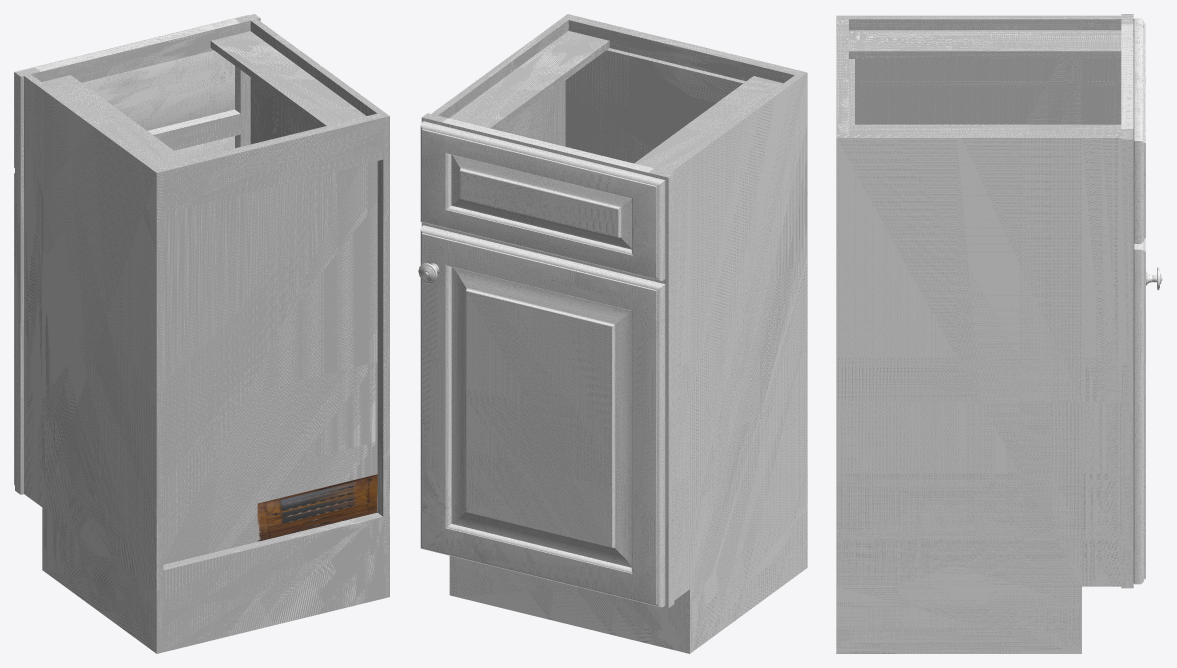
3 renders of one model, left to right at view 1: azimuth 30°, elevation 25°; view 2: azimuth 150°, elevation 25°; view 3: azimuth 270°, elevation 25°, orthographic. The views are drawn at different scales.
Parts seen in each view (by area): view 1: mesh4_mesh4-geometry, mesh7_mesh7-geometry, mesh12_mesh12-geometry, mesh3_mesh3-geometry, mesh10_mesh10-geometry, mesh6_mesh6-geometry, mesh8_mesh8-geometry, mesh5_mesh5-geometry, mesh14_mesh14-geometry, mesh2_mesh2-geometry, mesh37_mesh37-geometry, mesh15_mesh15-geometry (+6 smaller); view 2: mesh7_mesh7-geometry, mesh35_mesh35-geometry, mesh4_mesh4-geometry, mesh33_mesh33-geometry, mesh32_mesh32-geometry, mesh13_mesh13-geometry, mesh30_mesh30-geometry, mesh8_mesh8-geometry, mesh31_mesh31-geometry, mesh6_mesh6-geometry, mesh20_mesh20-geometry, mesh14_mesh14-geometry (+17 smaller); view 3: mesh10_mesh10-geometry, mesh7_mesh7-geometry, mesh9_mesh9-geometry, mesh11_mesh11-geometry, mesh15_mesh15-geometry, mesh2_mesh2-geometry, mesh6_mesh6-geometry, mesh14_mesh14-geometry, mesh32_mesh32-geometry, mesh3_mesh3-geometry, mesh5_mesh5-geometry, mesh20_mesh20-geometry (+4 smaller).
Part boxes in pixels (x1,y1,x2,y2): mesh4_mesh4-geometry: (163, 161, 377, 564); mesh7_mesh7-geometry: (42, 87, 163, 590); mesh12_mesh12-geometry: (163, 512, 383, 652); mesh3_mesh3-geometry: (158, 113, 383, 212); mesh10_mesh10-geometry: (269, 32, 389, 535); mesh6_mesh6-geometry: (24, 74, 48, 506); mesh8_mesh8-geometry: (42, 507, 163, 653); mesh5_mesh5-geometry: (35, 19, 240, 150); mesh14_mesh14-geometry: (210, 31, 366, 127); mesh2_mesh2-geometry: (15, 14, 260, 494); mesh37_mesh37-geometry: (257, 474, 377, 541); mesh15_mesh15-geometry: (42, 75, 186, 166); mesh7_mesh7-geometry: (683, 71, 807, 588); mesh35_mesh35-geometry: (468, 293, 610, 544); mesh4_mesh4-geometry: (565, 48, 745, 163); mesh33_mesh33-geometry: (610, 327, 665, 556); mesh32_mesh32-geometry: (420, 281, 467, 510); mesh13_mesh13-geometry: (456, 557, 682, 652); mesh30_mesh30-geometry: (468, 237, 615, 327); mesh8_mesh8-geometry: (683, 503, 807, 653); mesh31_mesh31-geometry: (468, 510, 613, 595); mesh6_mesh6-geometry: (664, 157, 689, 600); mesh20_mesh20-geometry: (463, 132, 620, 210); mesh14_mesh14-geometry: (449, 31, 609, 129); mesh10_mesh10-geometry: (836, 134, 1081, 586); mesh7_mesh7-geometry: (836, 15, 1081, 124); mesh9_mesh9-geometry: (1082, 134, 1121, 586); mesh11_mesh11-geometry: (836, 586, 1081, 653); mesh15_mesh15-geometry: (849, 30, 1121, 58); mesh2_mesh2-geometry: (1121, 14, 1133, 588); mesh6_mesh6-geometry: (1082, 15, 1121, 124); mesh14_mesh14-geometry: (849, 124, 1121, 134); mesh32_mesh32-geometry: (1133, 302, 1145, 529); mesh3_mesh3-geometry: (836, 19, 848, 134); mesh5_mesh5-geometry: (1121, 24, 1133, 128); mesh20_mesh20-geometry: (1133, 40, 1145, 121).
Size of the model in its own units: 0.4125 by 0.7906 by 0.4526.
